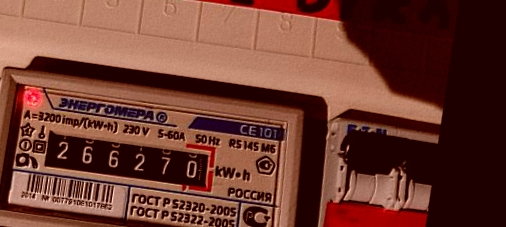0: (184, 158, 199, 180)
2: (54, 140, 72, 162), (131, 151, 148, 173)
6: (79, 144, 95, 166), (106, 149, 122, 170)
7: (157, 155, 172, 176)
screen: (34, 119, 224, 199)
